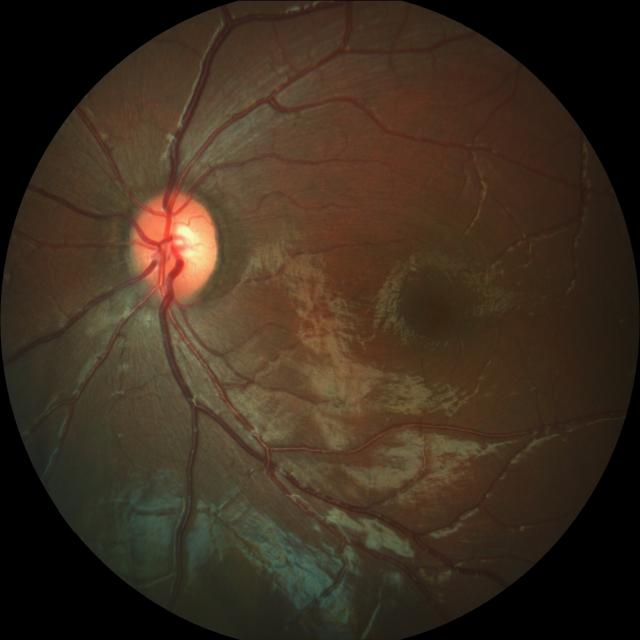OC: (158, 223, 202, 265)
OD: (131, 191, 220, 300)
